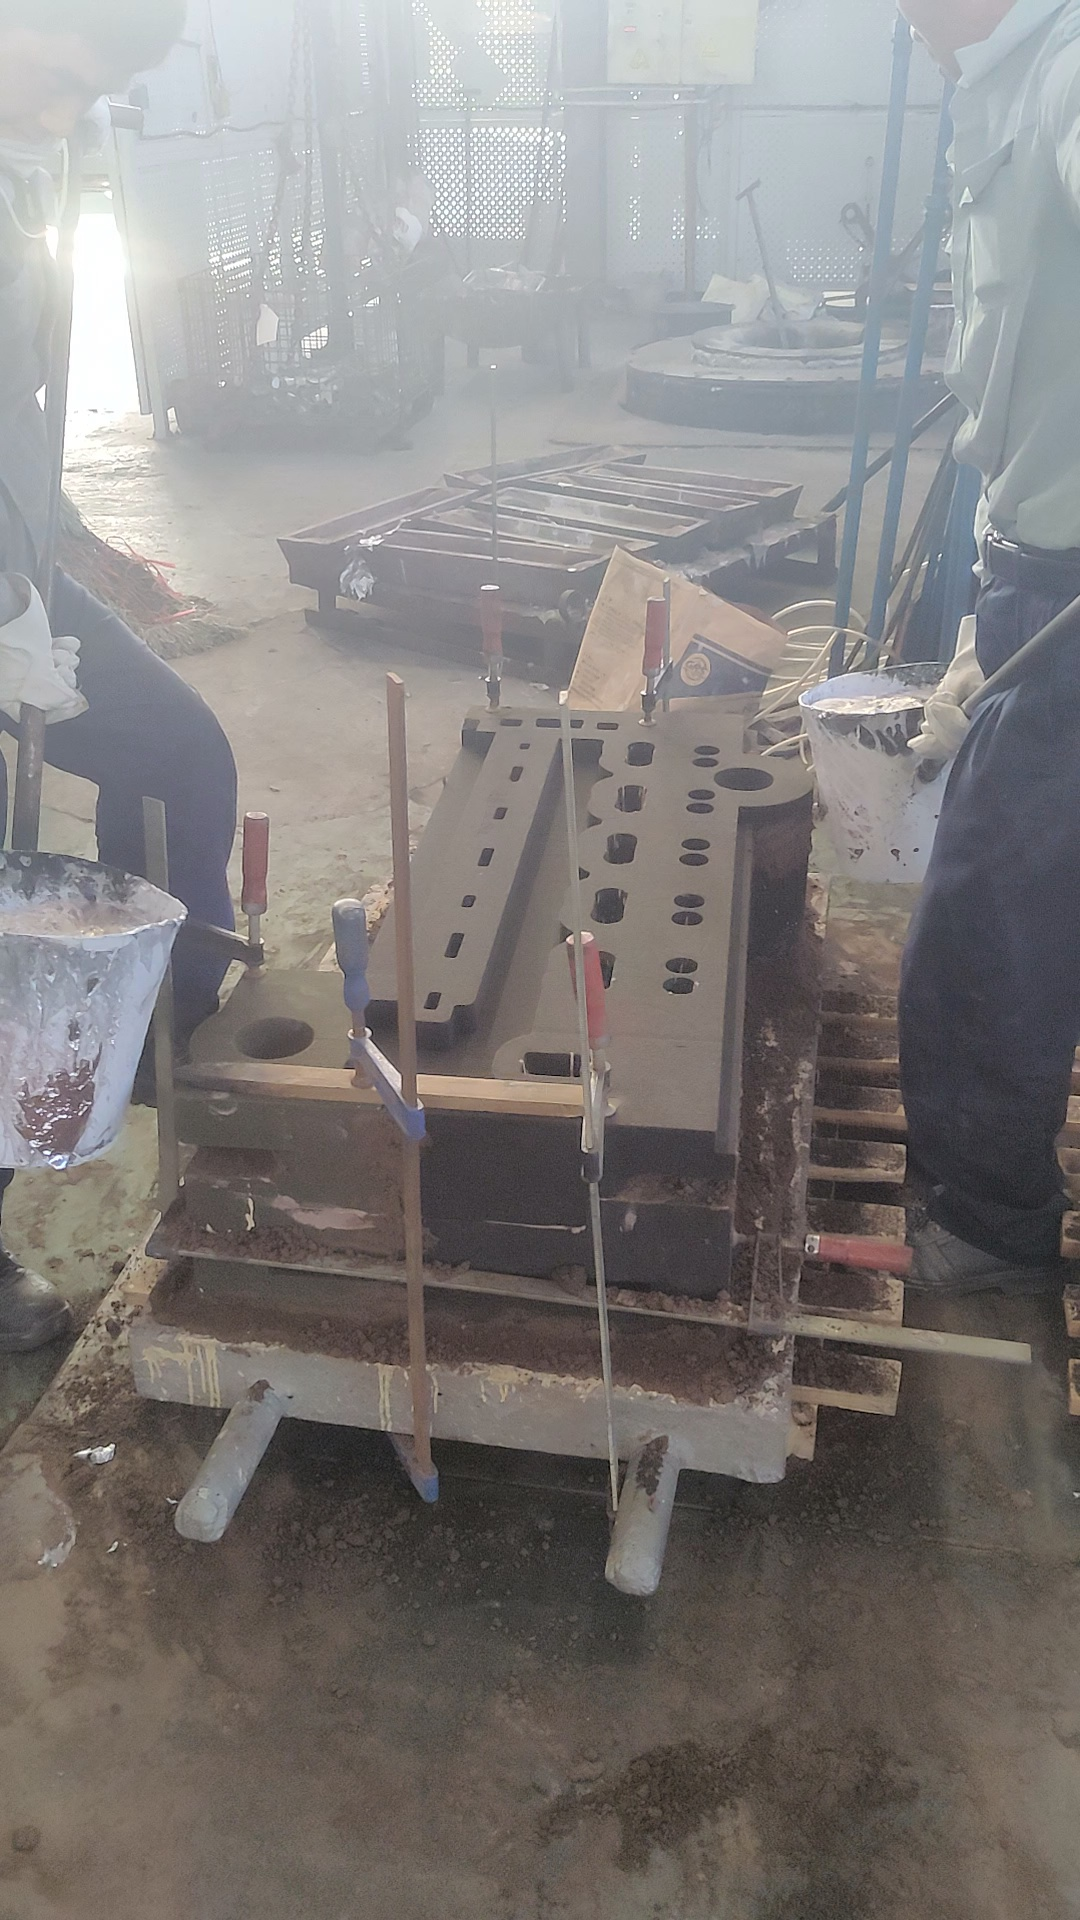pouring hole: (231, 1017, 316, 1062), (712, 766, 771, 791)
